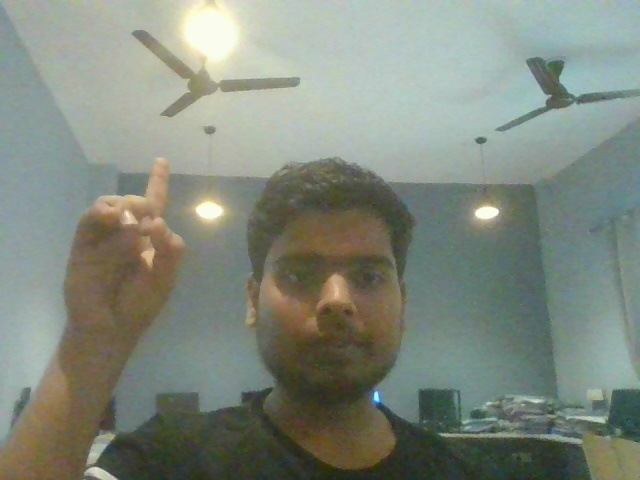D: (36, 143, 208, 361)
